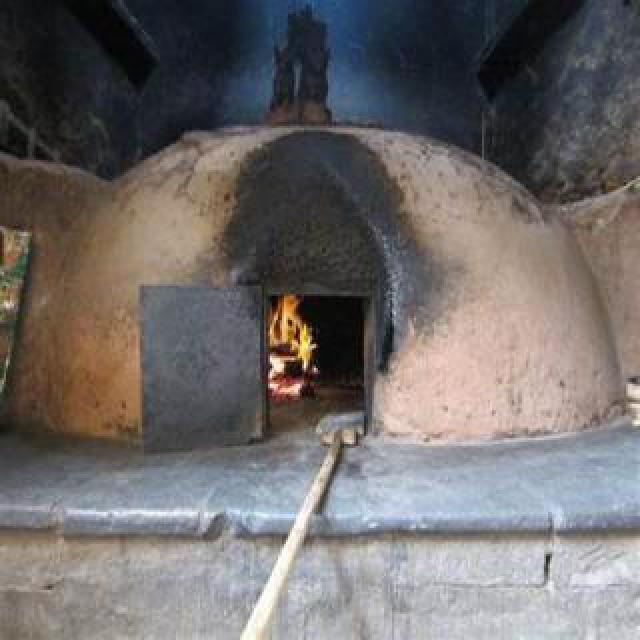Fire: (268, 284, 326, 408)
